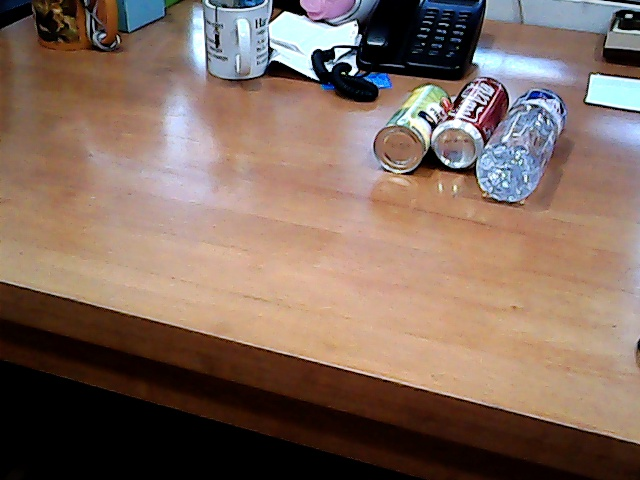Cola: (429, 59, 512, 172)
Pine Juice: (366, 75, 447, 175)
Summit Water: (470, 75, 572, 205)
